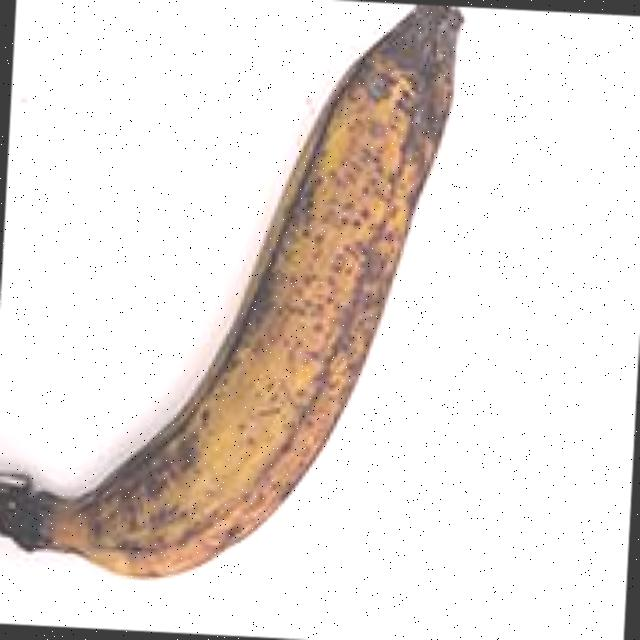Overripe: (0, 0, 522, 620)
